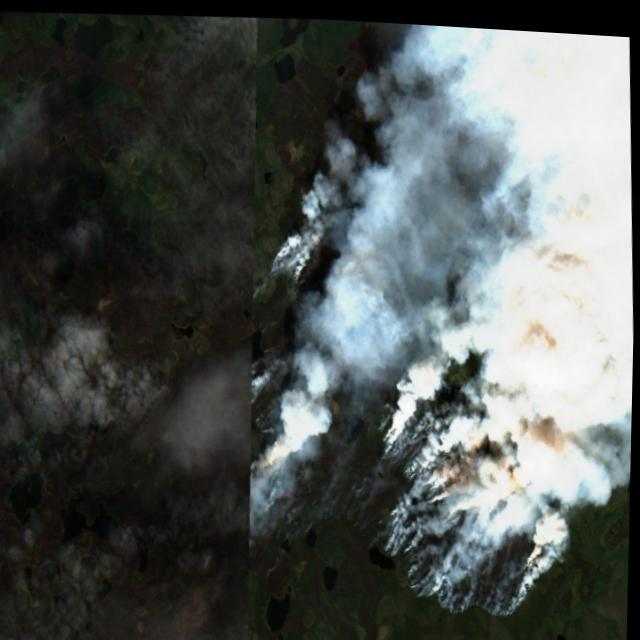fire: (361, 351, 588, 621), (240, 389, 323, 553), (254, 205, 331, 303)
